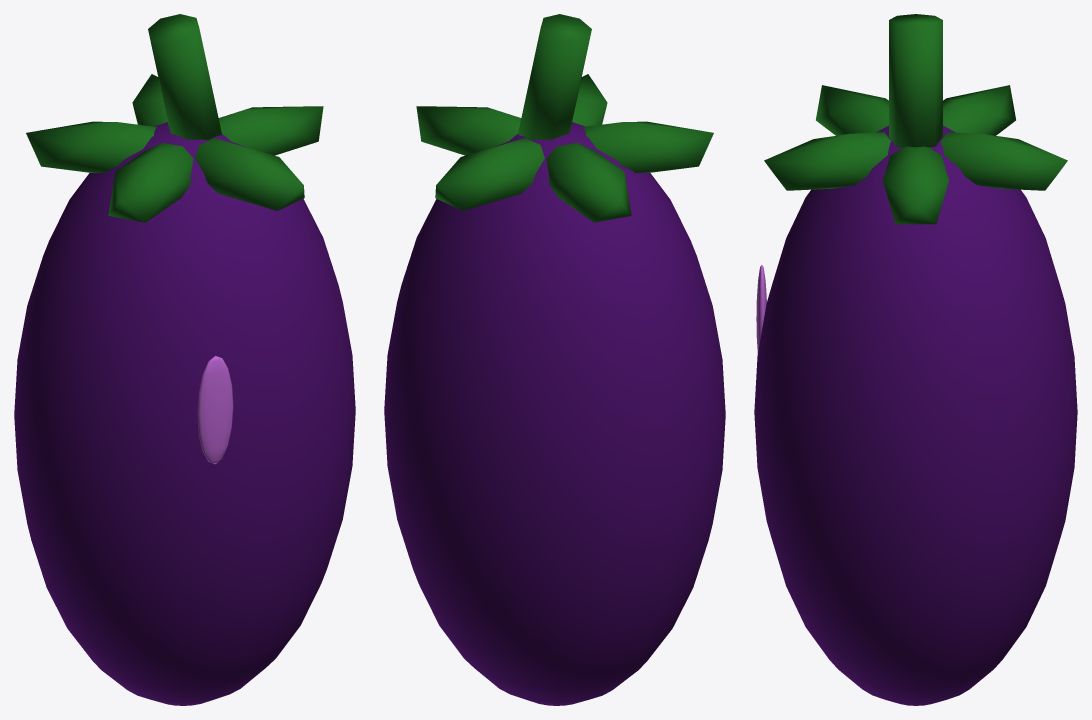
Rendered from eggplant.fbx.
3 views of the same model, side by side, from view 1: azimuth 30°, elevation 25°; view 2: azimuth 150°, elevation 25°; view 3: azimuth 270°, elevation 25° (orthographic).
Visible parts, largest first — view 1: eggplant; view 2: eggplant; view 3: eggplant.
Boxes of the visible parts, box(x1,y1,x2,y2) form: eggplant: box(14, 14, 355, 705); eggplant: box(384, 14, 725, 705); eggplant: box(754, 14, 1077, 705).
Size of the model in its own units: 46.51 by 100 by 43.3.
1 material, 1 textured.
